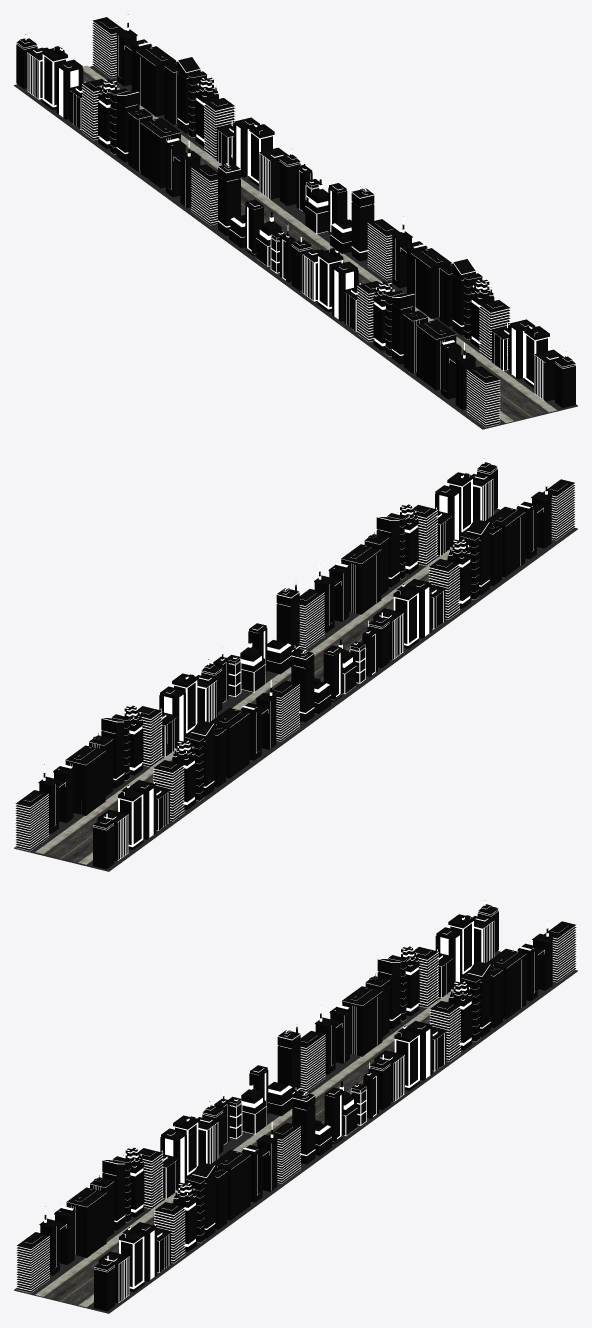
File: cropped_city.glb
3 views of the same model, one above another, from view 1: azimuth 30°, elevation 25°; view 2: azimuth 150°, elevation 25°; view 3: azimuth 330°, elevation 25° (orthographic).
Parts seen in each view (by area): view 1: Highrise_12; view 2: Highrise_12; view 3: Highrise_12.
Part boxes in pixels (left/top/right/bottom): Highrise_12: left=14, top=14, right=577, bottom=429; Highrise_12: left=14, top=458, right=577, bottom=871; Highrise_12: left=14, top=900, right=577, bottom=1313.
Size of the model in its own units: 84.47 by 63.42 by 717.
Materials: 17 (2 with a texture image).
